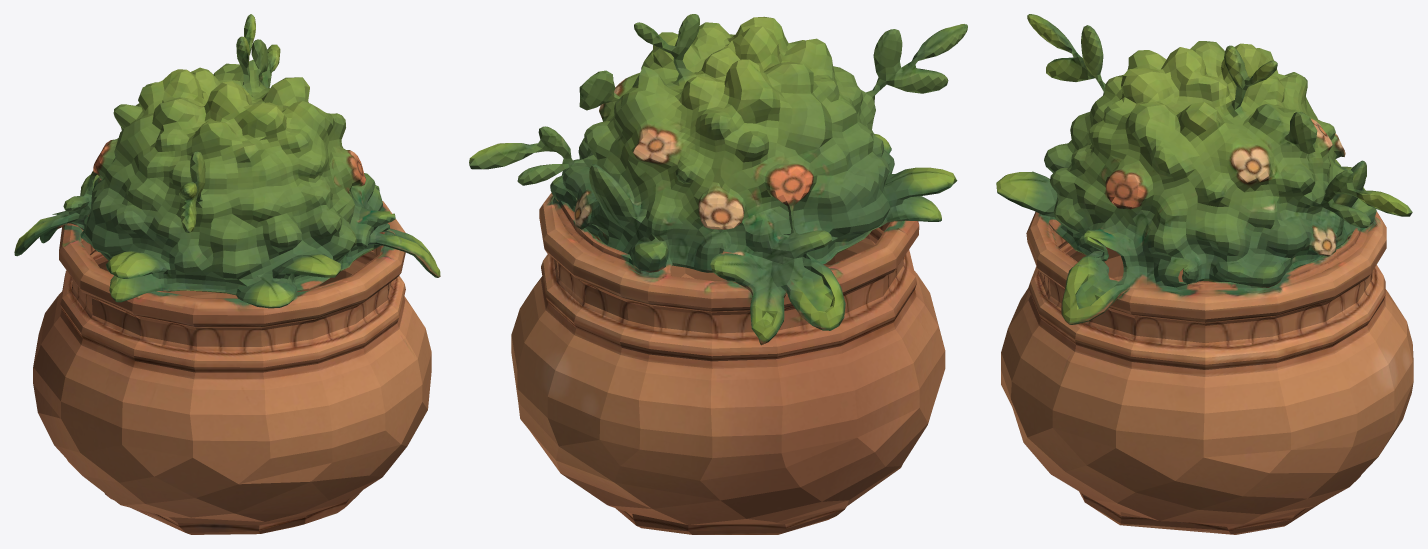
Rendered from tripo_convert_058611c2-b37d-49f9-809c-bb686e0e393a.fbx.
The picture shows the model from 3 angles, left to right: view 1: azimuth 30°, elevation 25°; view 2: azimuth 150°, elevation 25°; view 3: azimuth 270°, elevation 25°; orthographic projection. The views are drawn at different scales.
Visible parts, largest first — view 1: tripo_node_058611c2; view 2: tripo_node_058611c2; view 3: tripo_node_058611c2.
Boxes of the visible parts, x1,y1,x2,y2 form: tripo_node_058611c2: (14,14,440,534); tripo_node_058611c2: (469,14,967,534); tripo_node_058611c2: (996,14,1413,534).
Size of the model in its own units: 0.8183 by 0.9782 by 0.826.
1 material, 1 textured.
